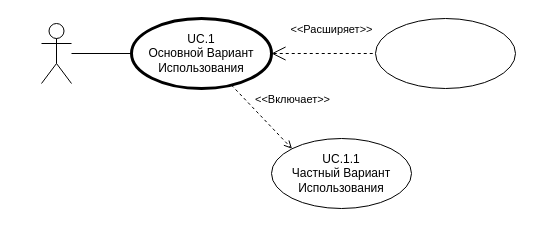
Some shapes in this 533 by 226 pixel diagram are drawn without their labels. Here are the shapes that lost their labels. From the top down, the box of each, then its label:
(40, 22, 72, 84): Пользователь
(374, 18, 516, 88): UC.1.2 Дополнительный Вариант Использования
